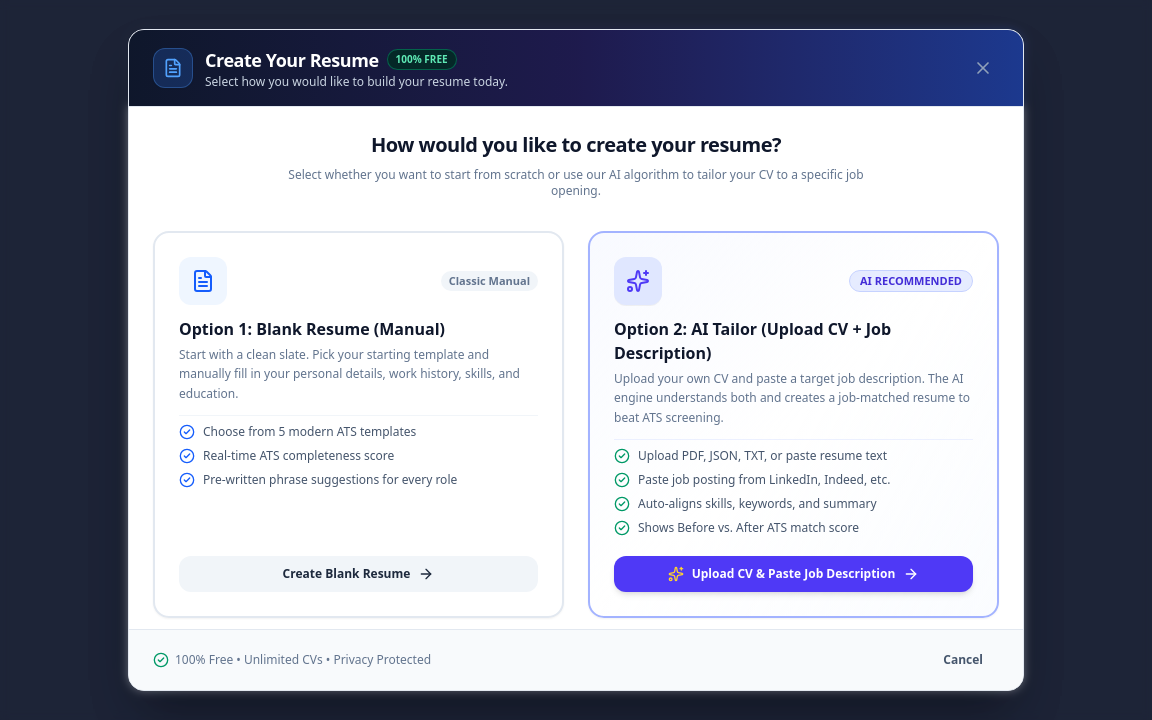
Scenario: CreateResumeModal Component (2 Creation Options) › navigates to Option 2 (AI Tailor) and runs AI tailoring on uploaded CV & Job Description
The image size is (1152, 720).
Later steps or results of the test are not shown.
What coordinates should you click on to do the following:
click the button "Upload CV & Paste Job Description"
I would click on:
 (794, 574)
Its box is left=614, top=556, right=973, bottom=592.
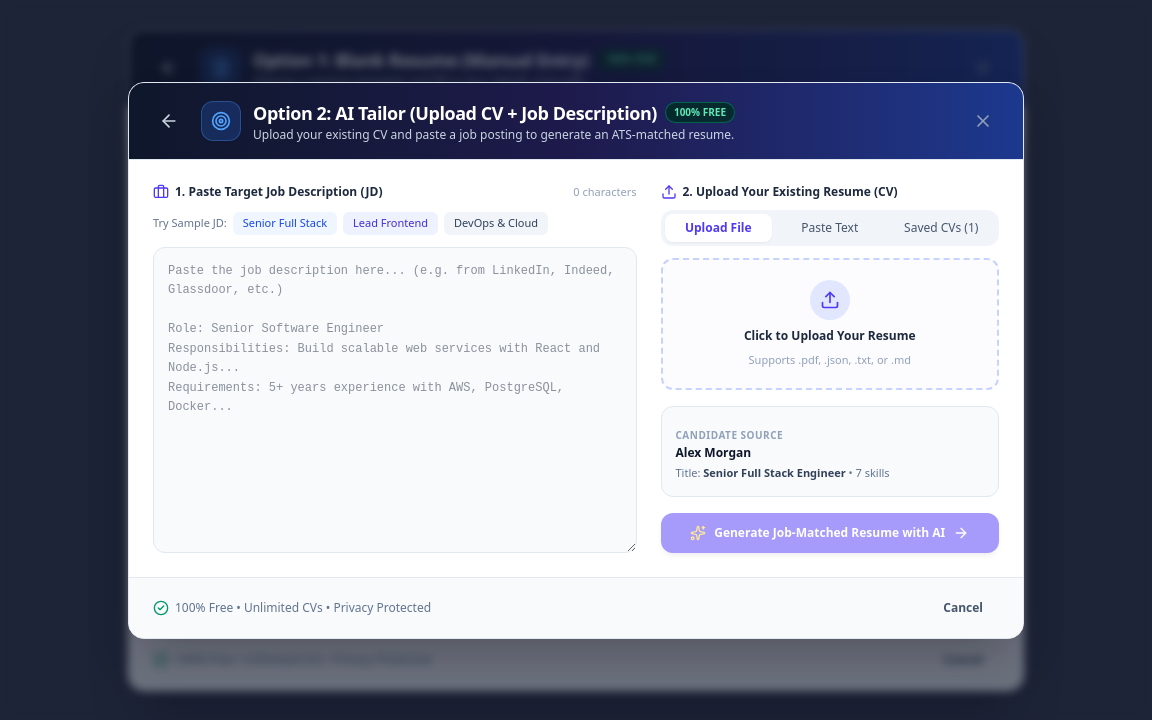
expect the text "1. Paste Target Job Description (JD)" is shown: met, box left=175, top=184, right=382, bottom=200
expect the text "2. Upload Your Existing Resume (CV)" is shown: met, box left=682, top=184, right=898, bottom=200
expect the button "Senior Full Stack" is shown: met
What coordinates should you click on to do the following:
click the button "Senior Full Stack"
I would click on:
 (285, 223)
Its box is left=233, top=212, right=337, bottom=235.
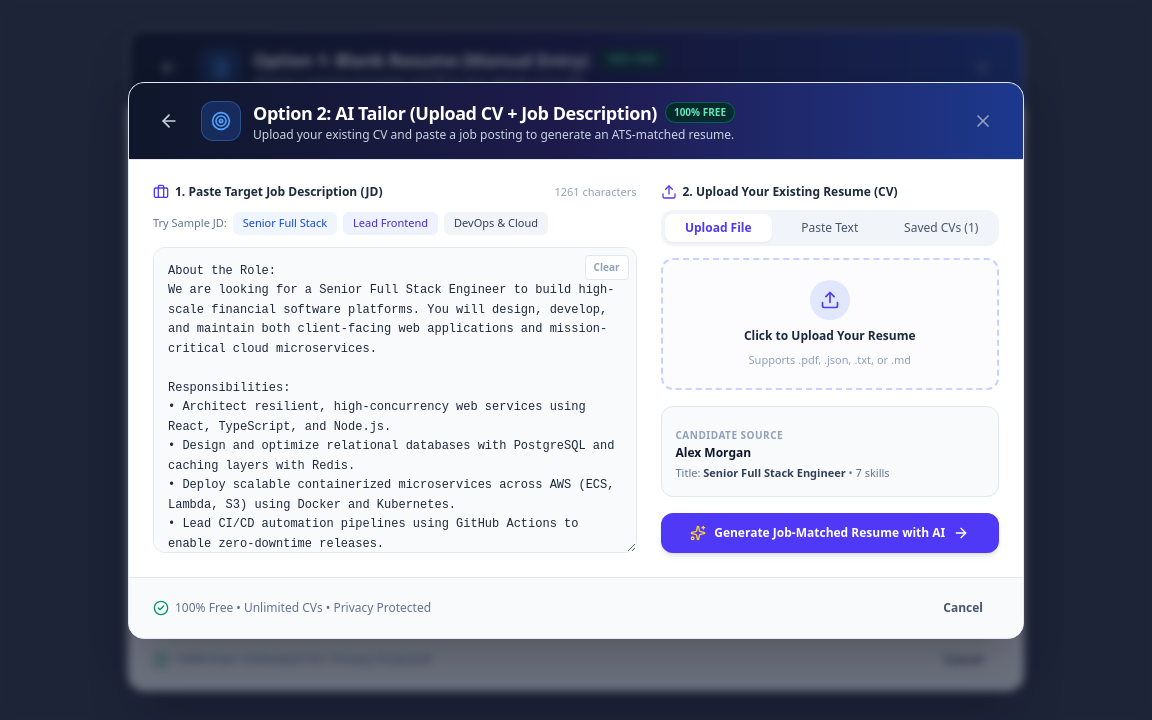
expect the button "Generate Job-Matched Resume with AI" is shown: met
What coordinates should you click on to do the following:
click the button "Generate Job-Matched Resume with AI"
I would click on:
 (830, 532)
Its box is left=660, top=512, right=999, bottom=552.
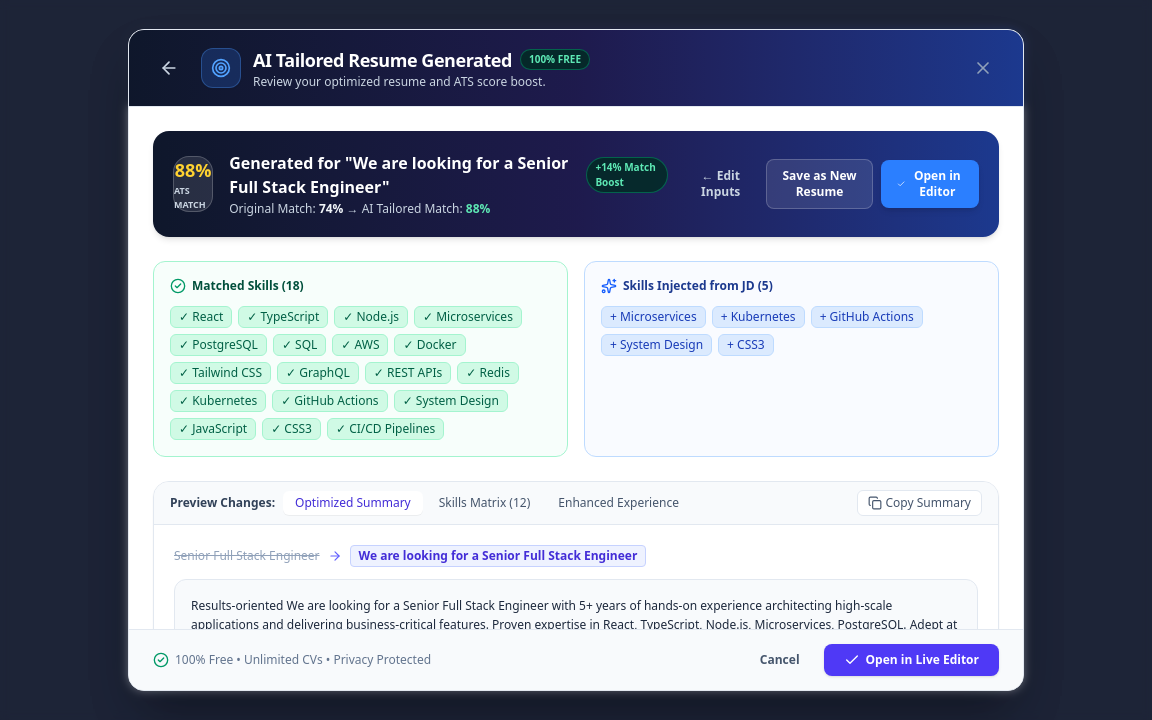
expect the button "Open in Editor" is shown: met, box left=881, top=160, right=979, bottom=208
expect the text "Match Boost" is shown: met, box left=595, top=160, right=656, bottom=189
expect the text "Matched Skills" is shown: met, box left=192, top=277, right=286, bottom=294
